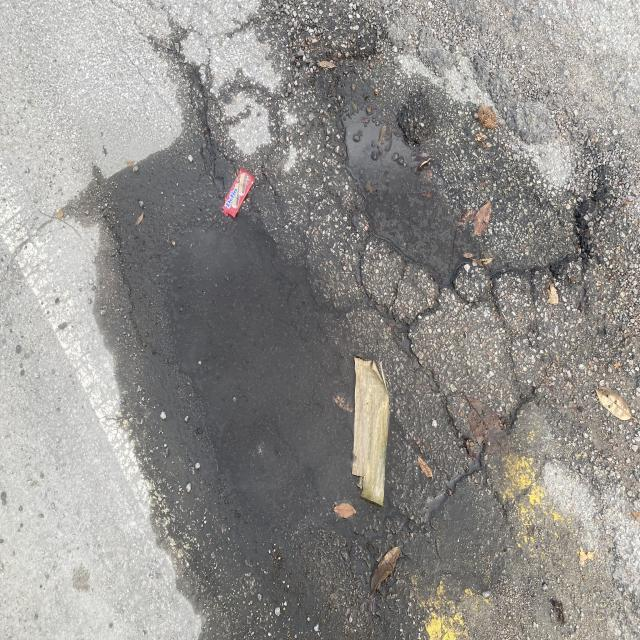Pothole: (358, 11, 640, 317), (38, 68, 283, 370)
